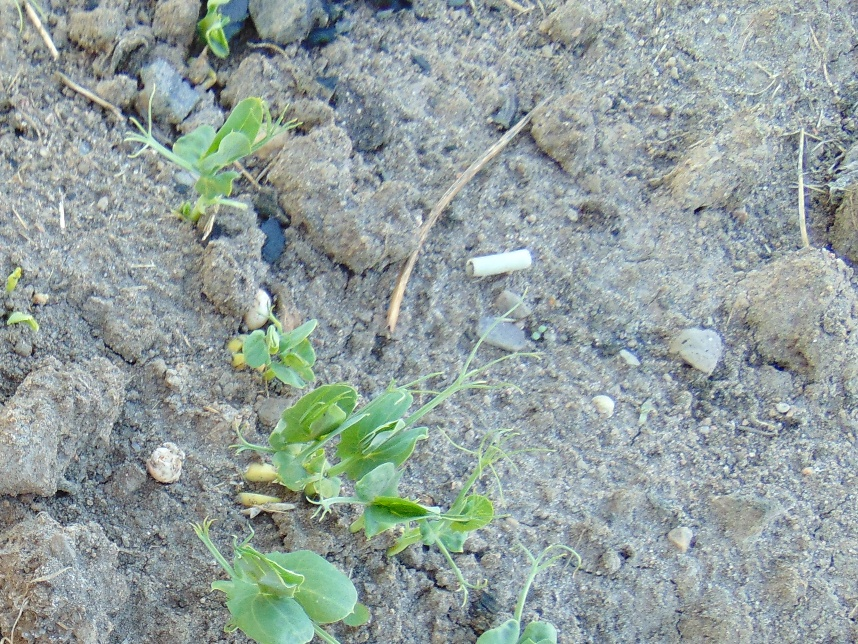crop: (223, 346, 507, 590), (119, 78, 304, 244), (188, 517, 357, 644), (473, 540, 586, 644), (240, 303, 319, 394), (197, 1, 234, 60)
